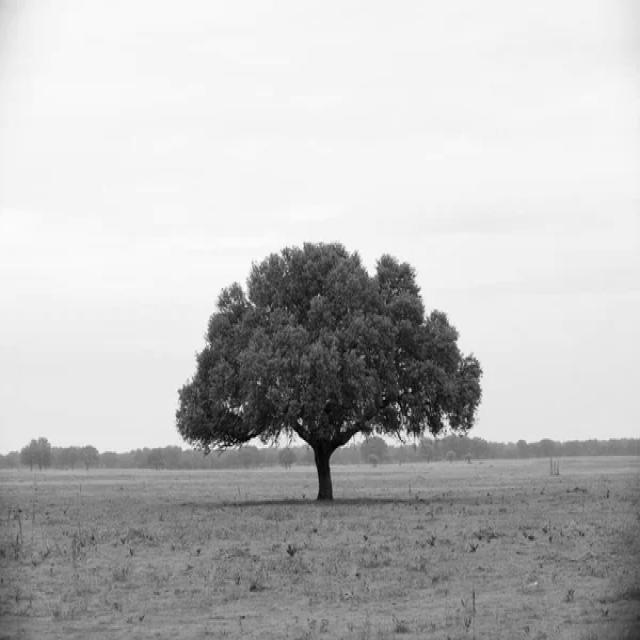Tree: (178, 243, 482, 500)
